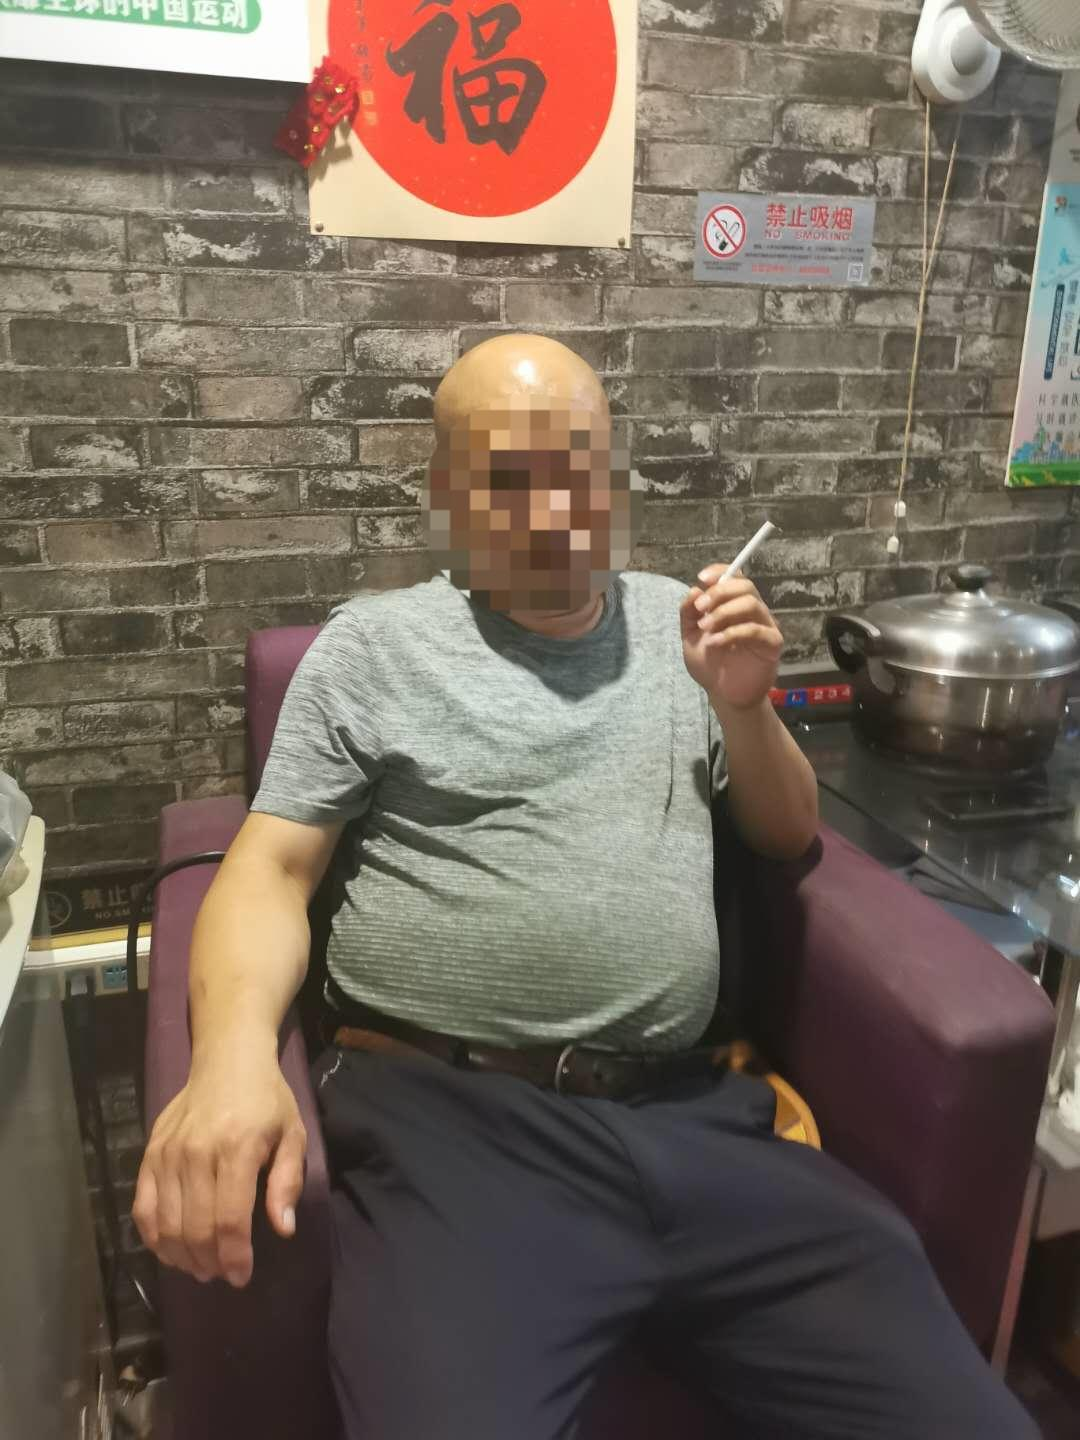smoke: (714, 513, 781, 591)
